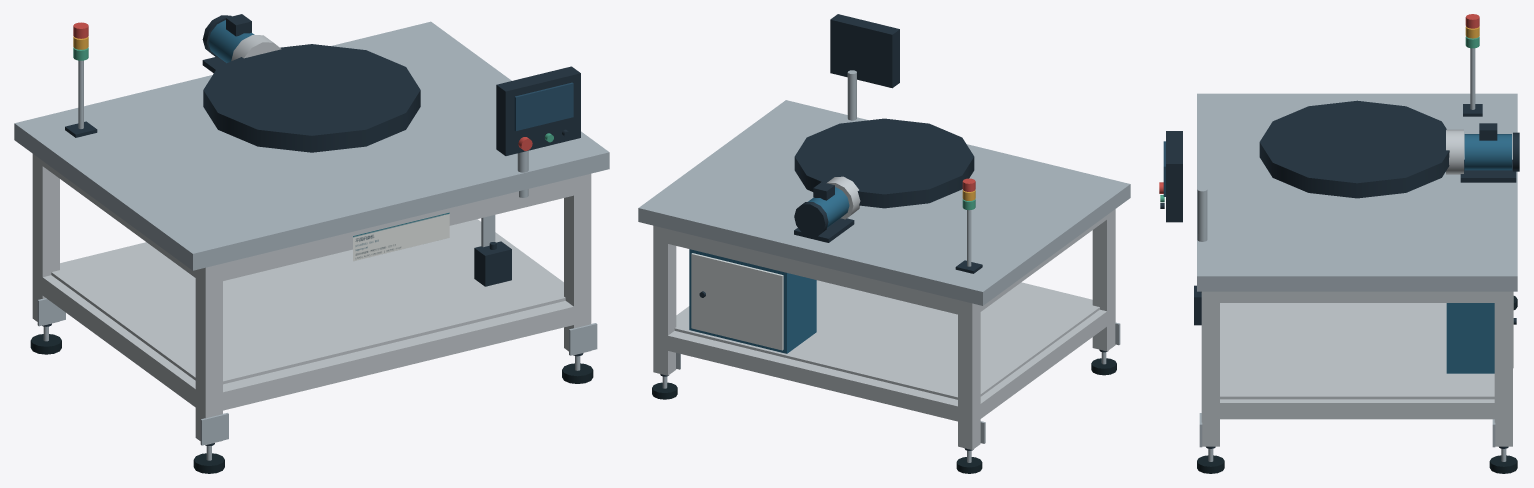
File: lapping-cell.glb
3 views of the same model, side by side, from view 1: azimuth 30°, elevation 25°; view 2: azimuth 150°, elevation 25°; view 3: azimuth 270°, elevation 25° (orthographic). The views are drawn at different scales.
Visible parts, largest first — view 1: ClosedMachineBed_28, LowerShelf_29, ToolPlaten_48, SlottedExtrusion_22, SlottedExtrusion_23, SlottedExtrusion_8, SlottedExtrusion_24, ConsoleBack_34, SlottedExtrusion_18, SlottedExtrusion_3, OriginalNameplate_42, Screen_35 (+6 smaller); view 2: ClosedMachineBed_28, LowerShelf_29, ToolPlaten_48, BackDoor_31, SlottedExtrusion_20, SlottedExtrusion_21, ConsoleBack_34, SlottedExtrusion_3, Cabinet_30, SlottedExtrusion_13, SlottedExtrusion_24, SlottedExtrusion_8 (+5 smaller); view 3: ClosedMachineBed_28, LowerShelf_29, ToolPlaten_48, SlottedExtrusion_26, SlottedExtrusion_27, Cabinet_30, SlottedExtrusion_18, SlottedExtrusion_13, MotorBody_50, ConsoleBack_34, Gearbox_52, MountFoot_54 (+3 smaller).
Part boxes in pixels (x1,y1,x2,y2): ClosedMachineBed_28: (14, 21, 609, 270); LowerShelf_29: (51, 220, 565, 384); ToolPlaten_48: (203, 44, 420, 152); SlottedExtrusion_22: (214, 301, 573, 410); SlottedExtrusion_23: (214, 178, 573, 282); SlottedExtrusion_8: (195, 264, 222, 444); SlottedExtrusion_24: (37, 275, 195, 407); ConsoleBack_34: (496, 66, 580, 155); SlottedExtrusion_18: (564, 173, 591, 354); SlottedExtrusion_3: (32, 154, 59, 325); OriginalNameplate_42: (353, 212, 449, 261); Screen_35: (514, 82, 573, 130); ClosedMachineBed_28: (638, 100, 1130, 305); LowerShelf_29: (674, 280, 1099, 399); ToolPlaten_48: (794, 118, 974, 208); BackDoor_31: (691, 253, 783, 350); SlottedExtrusion_20: (660, 331, 964, 422); SlottedExtrusion_21: (660, 227, 965, 315); ConsoleBack_34: (830, 14, 899, 88); SlottedExtrusion_3: (958, 300, 980, 449); Cabinet_30: (689, 249, 816, 353); SlottedExtrusion_13: (653, 225, 676, 375); SlottedExtrusion_24: (976, 309, 1107, 420); SlottedExtrusion_8: (1092, 209, 1115, 351); ClosedMachineBed_28: (1197, 93, 1517, 291); LowerShelf_29: (1220, 303, 1494, 399); ToolPlaten_48: (1259, 100, 1449, 198); SlottedExtrusion_26: (1210, 399, 1503, 419); SlottedExtrusion_27: (1210, 291, 1503, 302); Cabinet_30: (1446, 303, 1494, 373); SlottedExtrusion_18: (1201, 291, 1219, 446); SlottedExtrusion_13: (1494, 291, 1512, 446); MotorBody_50: (1464, 134, 1511, 170); ConsoleBack_34: (1166, 131, 1182, 222); Gearbox_52: (1446, 129, 1463, 174); MountFoot_54: (1460, 159, 1516, 182).
Bounding box in the file's own units: 1.55 × 1.18 × 1.29.
Materials: 11 (1 with a texture image).
